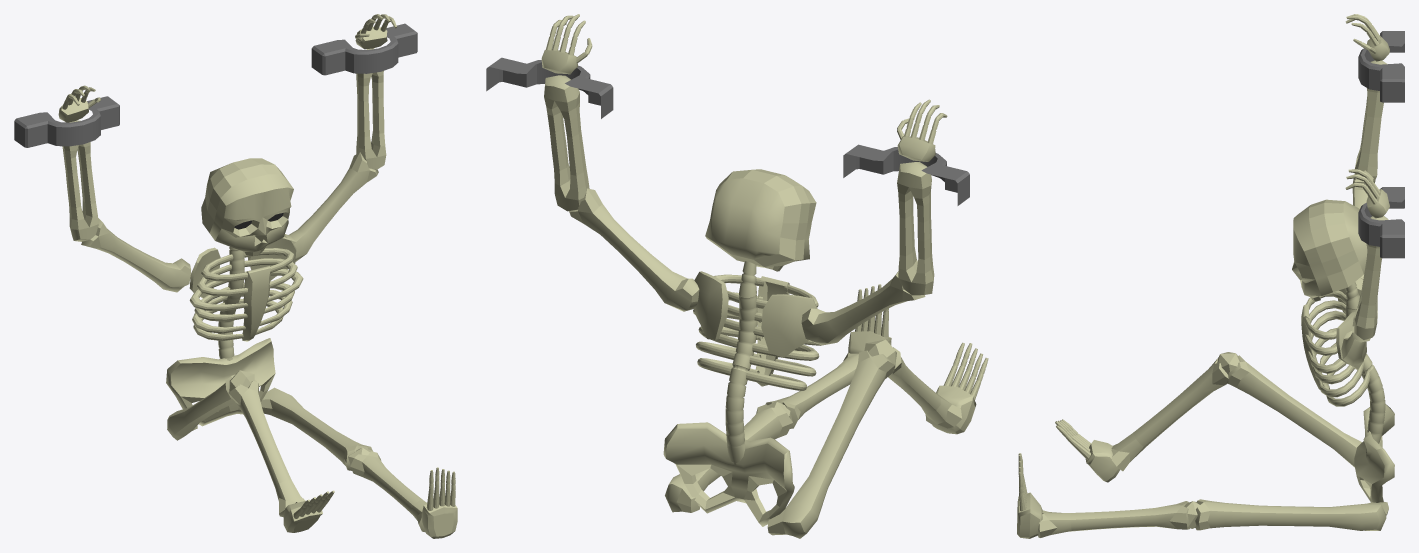
Rendered from Cadaver1.fbx.
3 views of the same model, side by side, from view 1: azimuth 30°, elevation 25°; view 2: azimuth 150°, elevation 25°; view 3: azimuth 270°, elevation 25° (orthographic). The views are drawn at different scales.
Visible parts, largest first — view 1: polySurface157; view 2: polySurface157; view 3: polySurface157.
Boxes of the visible parts, bbox=[...] form: polySurface157: bbox=[14, 14, 457, 538]; polySurface157: bbox=[486, 14, 988, 538]; polySurface157: bbox=[1017, 14, 1404, 538].
Size of the model in its own units: 278 by 261 by 221.
